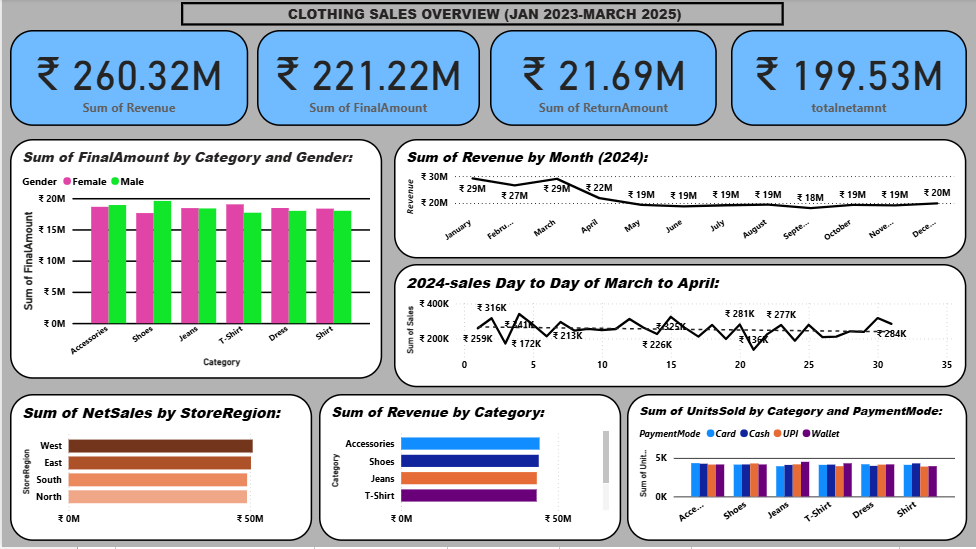

This screenshot's page, from the dashboard's own definition file:
{"tool":"powerbi","page":{"name":"finaldashboard","canvas":[1280,720],"ordinal":7},"visuals":[{"type":"card","fields":{"Values":["clearnowsales.totalnetamnt"]},"box":[957.5,41.4,309.7,125.6],"z":0},{"type":"card","fields":{"Values":["Sum(clearnowsales.Revenue)"]},"box":[10,41.4,312.5,125.6],"z":1000},{"type":"card","fields":{"Values":["Sum(clearnowsales.FinalAmount)"]},"box":[335.3,41.4,292.5,125.6],"z":2000},{"type":"card","fields":{"Values":["Sum(clearnowsales.ReturnAmount)"]},"box":[640.7,41.4,298.2,125.6],"z":3000},{"type":"clusteredColumnChart","title":"Sum of FinalAmount by Category and Gender:","fields":{"Category":["clearnowsales.Category"],"Series":["clearnowsales.Gender"],"Y":["Sum(clearnowsales.FinalAmount)"]},"box":[10,184.1,489.5,315.4],"z":4000},{"type":"clusteredBarChart","title":"Sum of NetSales by StoreRegion:","fields":{"Category":["clearnowsales.StoreRegion"],"Y":["Sum(clearnowsales.NetSales)"]},"box":[10.5,519,396.8,193.1],"z":5000},{"type":"lineChart","title":"Sum of Revenue by Month (2024):","fields":{"Y":["Sum(clearnowsales.Revenue)"],"Category":["clearnowsales.Date.Variation.Date Hierarchy.Month"]},"box":[515.1,184.1,752,157],"z":6000},{"type":"lineChart","title":"2024-sales Day to Day of March to April:","fields":{"Category":["clearnowsales.Date.Variation.Date Hierarchy.Day"],"Y":["clearnowsales.Sales24 Speecific Range"]},"box":[515.1,348,752,162],"z":7000},{"type":"clusteredBarChart","title":"Sum of Revenue by Category:","fields":{"Y":["Sum(clearnowsales.Revenue)"],"Category":["clearnowsales.Category","clearnowsales.PaymentMode"]},"box":[417,519.4,397,192.6],"z":8000},{"type":"lineClusteredColumnComboChart","title":"Sum of UnitsSold by Category and PaymentMode:","fields":{"Category":["clearnowsales.Category"],"Y":["Sum(clearnowsales.UnitsSold)"],"Series":["clearnowsales.PaymentMode"]},"box":[820.5,519.4,446.6,192.6],"z":9000},{"type":"shape","title":"CLOTHING SALES OVERVIEW  (JAN 2023-MARCH 2025)","box":[235,4,792,31.4],"z":10000}]}

Visuals, with their boxes in screenshot pixels (x1, y1, x2, y2), scaled from the page's 1280x720 canvas onto the 976x549 screenshot:
card - clearnowsales.totalnetamnt: (left=730, top=32, right=966, bottom=127)
card - Sum(clearnowsales.Revenue): (left=8, top=32, right=246, bottom=127)
card - Sum(clearnowsales.FinalAmount): (left=256, top=32, right=479, bottom=127)
card - Sum(clearnowsales.ReturnAmount): (left=489, top=32, right=716, bottom=127)
"Sum of FinalAmount by Category and Gender:" clusteredColumnChart: (left=8, top=140, right=381, bottom=381)
"Sum of NetSales by StoreRegion:" clusteredBarChart: (left=8, top=396, right=311, bottom=543)
"Sum of Revenue by Month (2024):" lineChart: (left=393, top=140, right=966, bottom=260)
"2024-sales Day to Day of March to April:" lineChart: (left=393, top=265, right=966, bottom=389)
"Sum of Revenue by Category:" clusteredBarChart: (left=318, top=396, right=621, bottom=543)
"Sum of UnitsSold by Category and PaymentMode:" lineClusteredColumnComboChart: (left=626, top=396, right=966, bottom=543)
"CLOTHING SALES OVERVIEW  (JAN 2023-MARCH 2025)" shape: (left=179, top=3, right=783, bottom=27)
